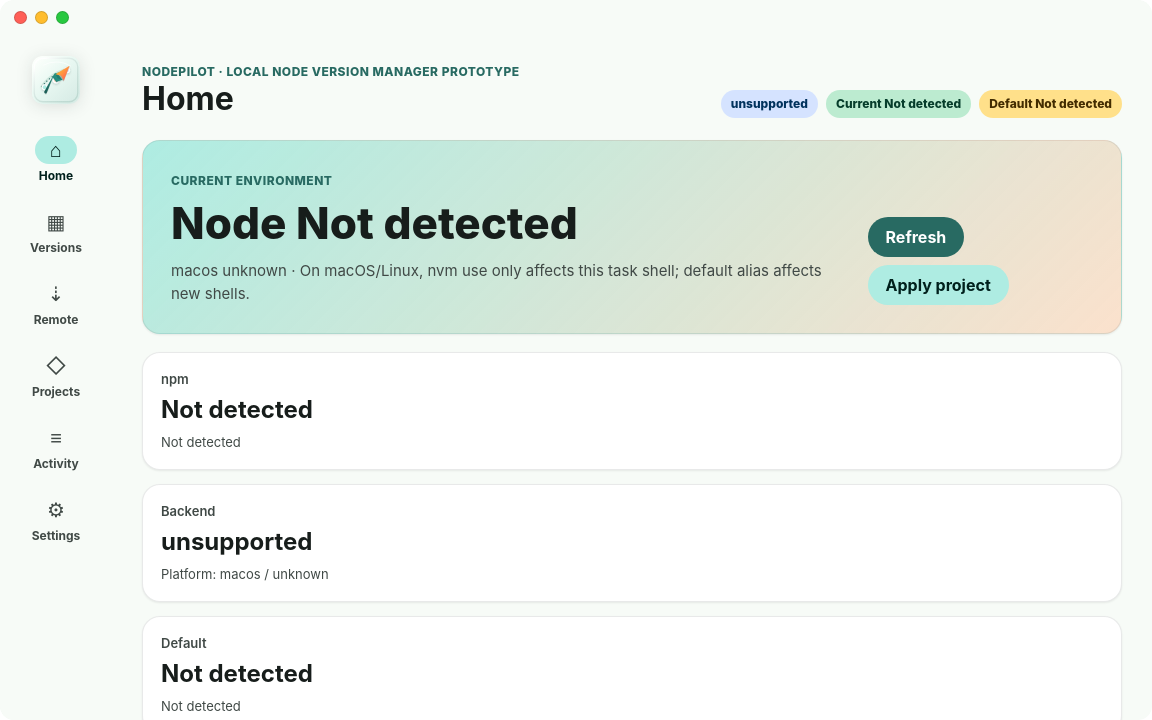
it: App › renders remote versions from the backend command
The image size is (1152, 720).
Click the button with aria-label "Open Remote". click: x=56, y=304
box: [14,272,98,336]
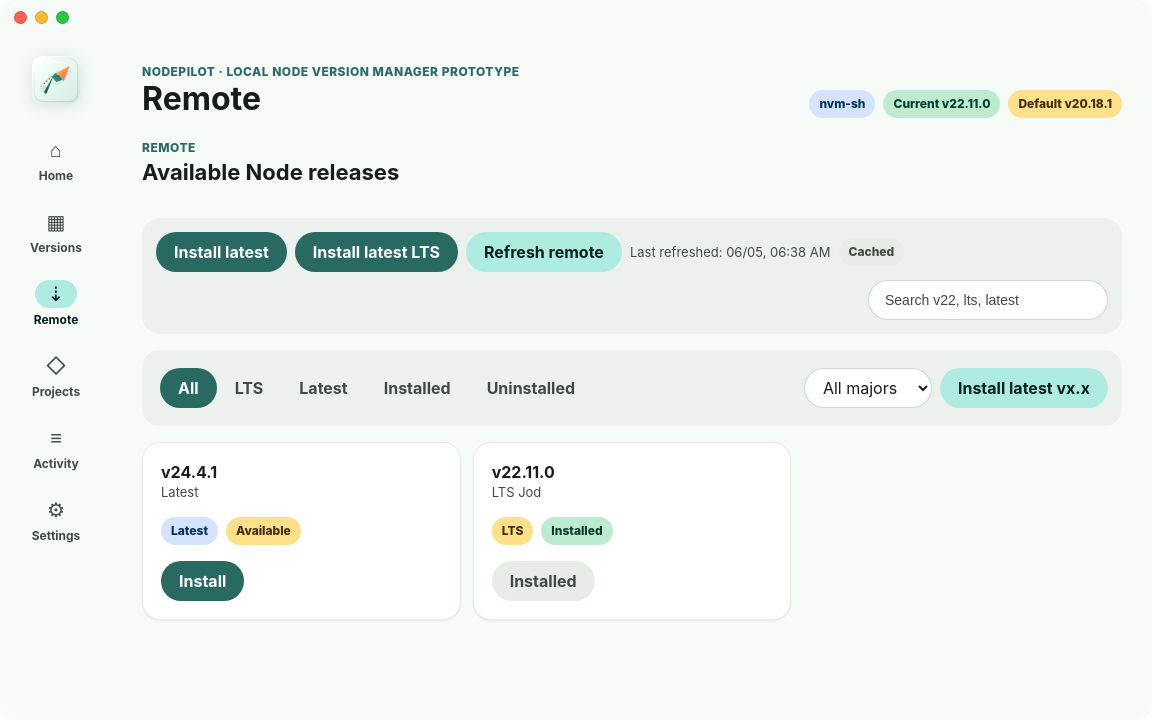
Result: the heading "v24.4.1" is shown at [161,462,217,482]
Result: the heading "v22.11.0" is shown at [492,462,555,482]
Result: the text "LTS Jod" is shown at [492,484,541,500]
